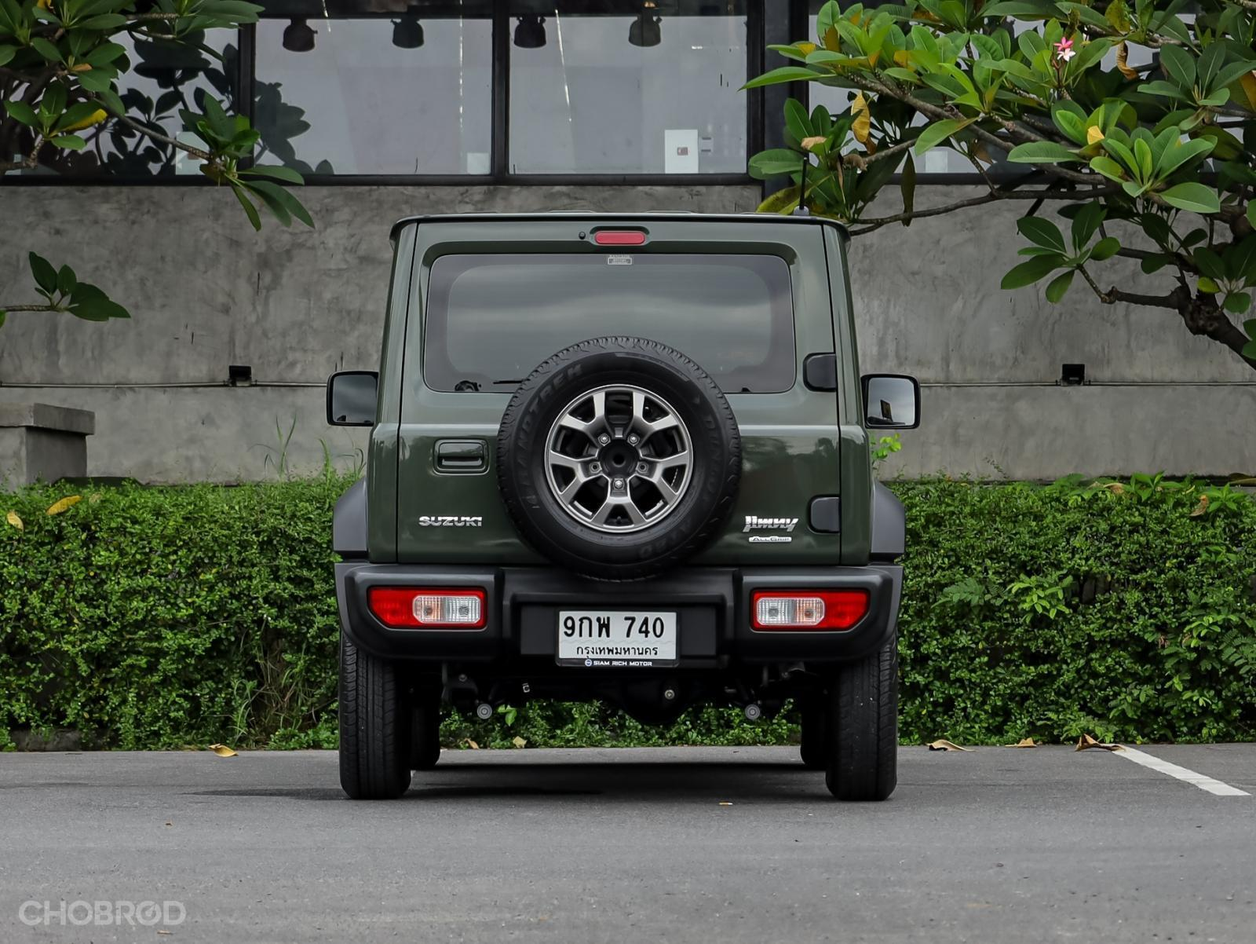license-plate: (554, 603, 679, 674)
